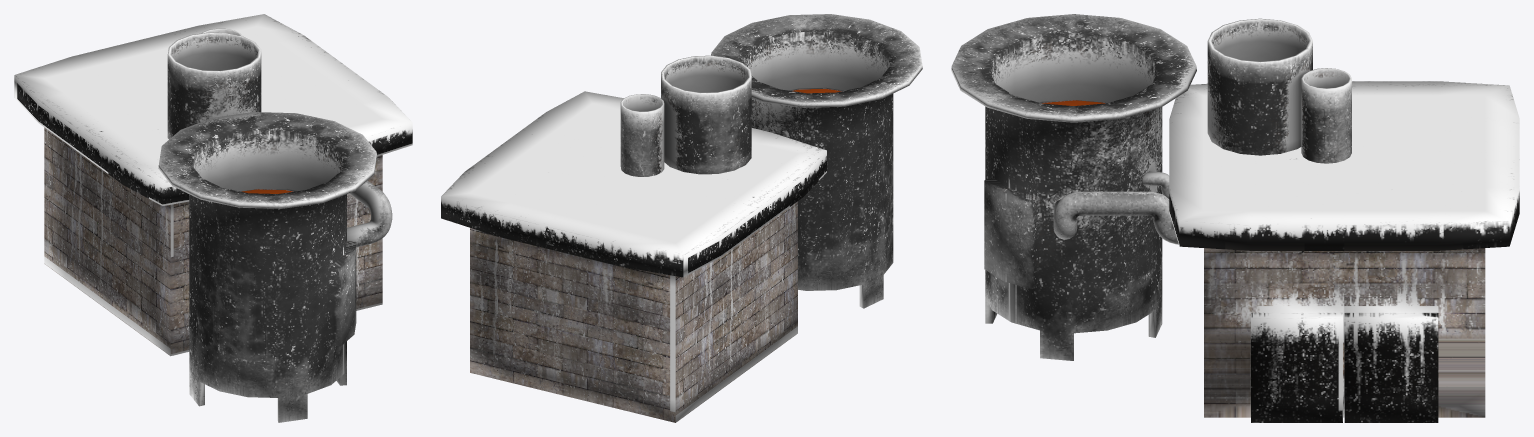
The model's file is forge.fbx.
3 views of the same model, side by side, from view 1: azimuth 30°, elevation 25°; view 2: azimuth 150°, elevation 25°; view 3: azimuth 270°, elevation 25° (orthographic). The views are drawn at different scales.
Parts seen in each view (by area): view 1: Box012, Cone002, Tube001, Cylinder014; view 2: Box012, Cone002, Tube001, Tube002; view 3: Box012, Cone002, Tube001, Tube002, Cylinder014.
Part boxes in pixels (x1,y1,x2,y2): Box012: (14,14,412,356); Cone002: (158,112,377,422); Tube001: (167,32,261,139); Cylinder014: (347,180,392,247); Box012: (441,91,826,422); Cone002: (711,14,922,308); Tube001: (661,55,751,174); Tube002: (620,94,664,176); Box012: (1169,81,1519,422); Cone002: (951,14,1196,360); Tube001: (1207,18,1312,155); Tube002: (1301,68,1351,163); Cylinder014: (1053,191,1178,244).
Bounding box in the file's own units: 330 × 287 × 494.
